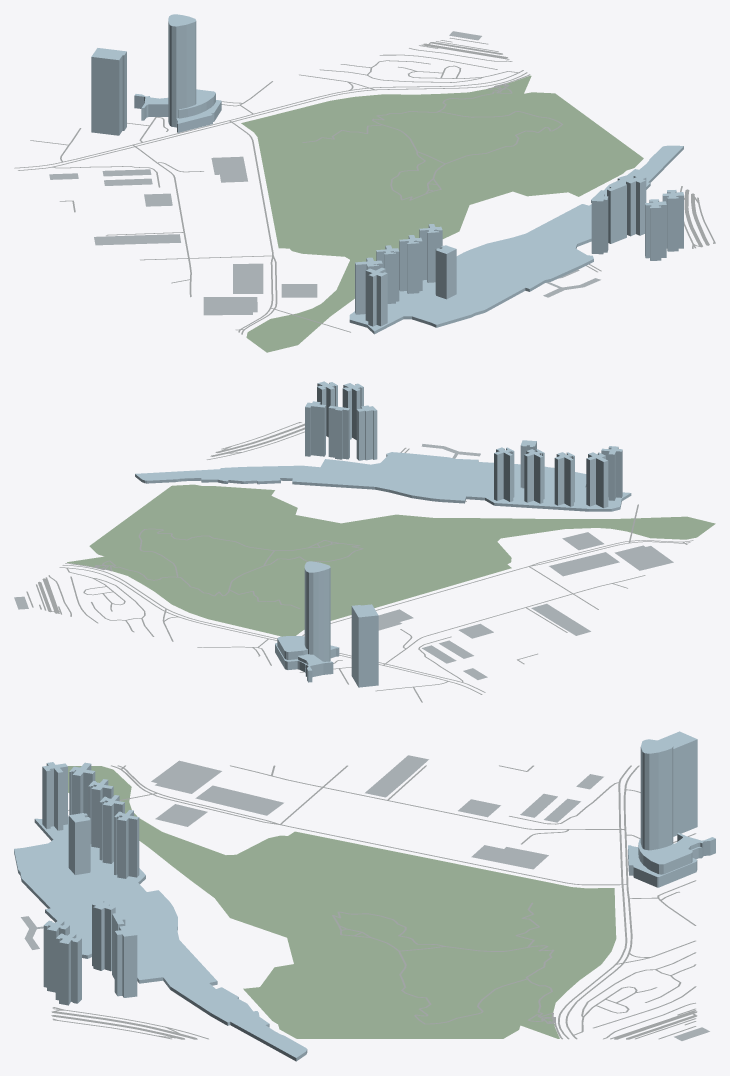
The model's file is -14_-7-known-coarse.glb.
3 renders of one model, top to bottom at view 1: azimuth 30°, elevation 25°; view 2: azimuth 150°, elevation 25°; view 3: azimuth 270°, elevation 25°, orthographic. The views are drawn at different scales.
Size of the model in its own units: 1122 by 200 by 1087.
